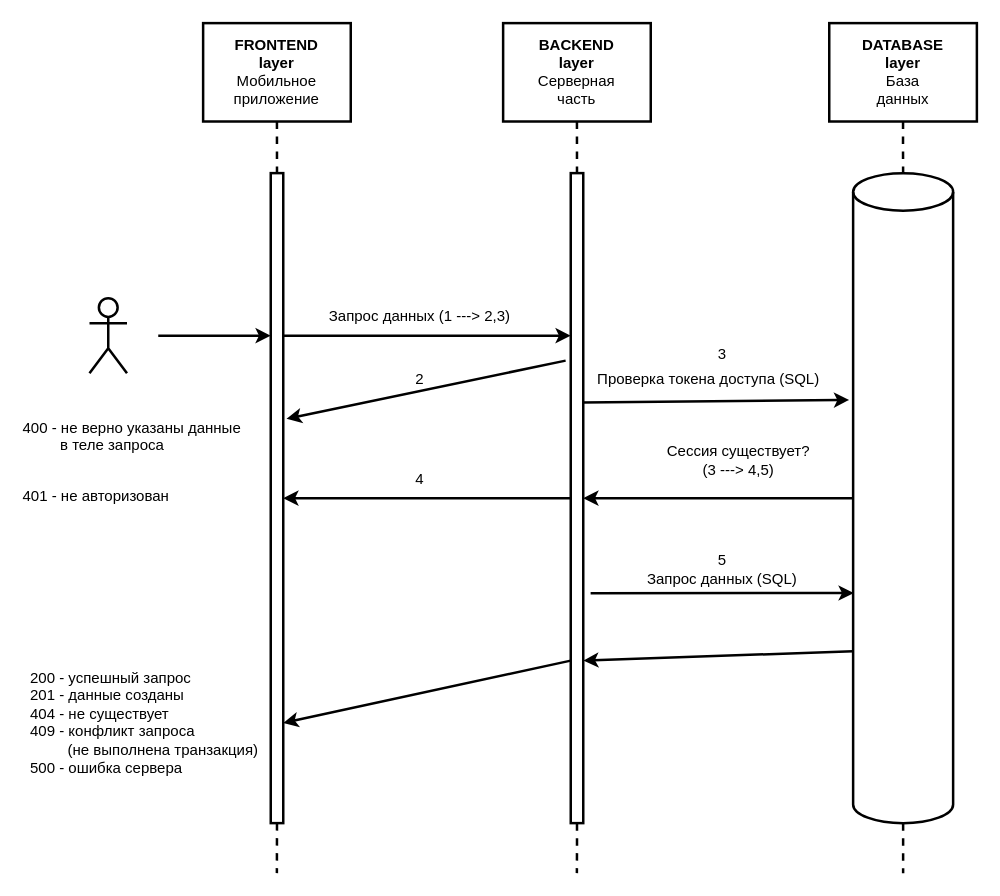
Some shapes in this 1000 by 896 pixel diagram are drawn without their labels. The centre of each missing label's shape, as x and y in pixels:
"MySQL" belongs at (902,497).
"user" belongs at (108,335).
